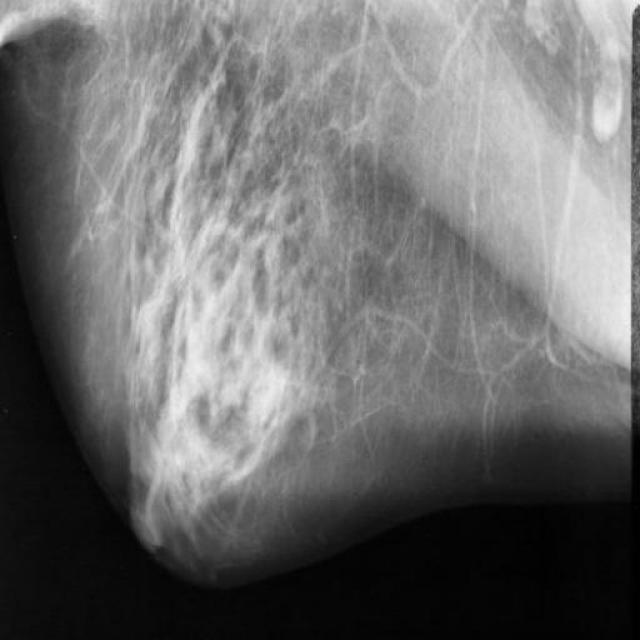cancer: (290, 333, 344, 462)
